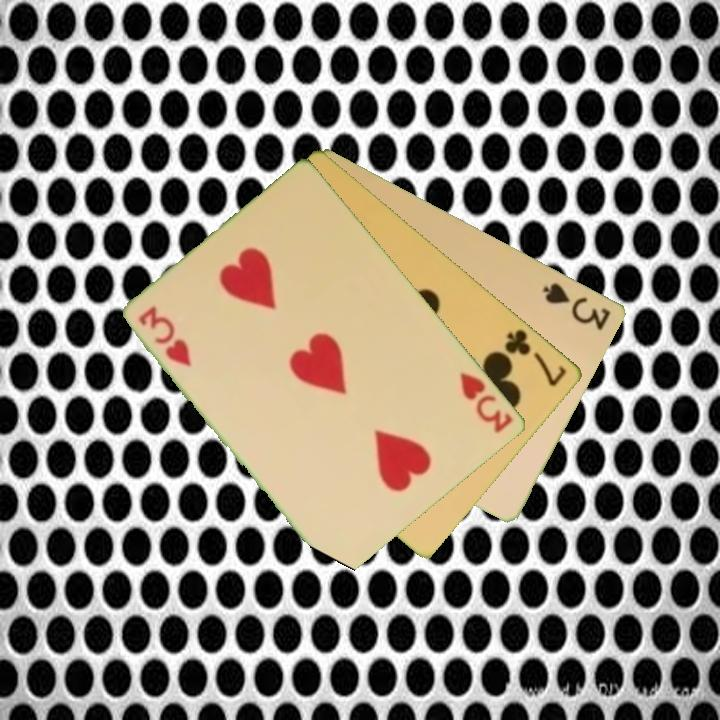3h: (135, 302, 195, 370), (457, 369, 516, 437)
3s: (539, 278, 614, 333)
7c: (501, 325, 571, 390)
